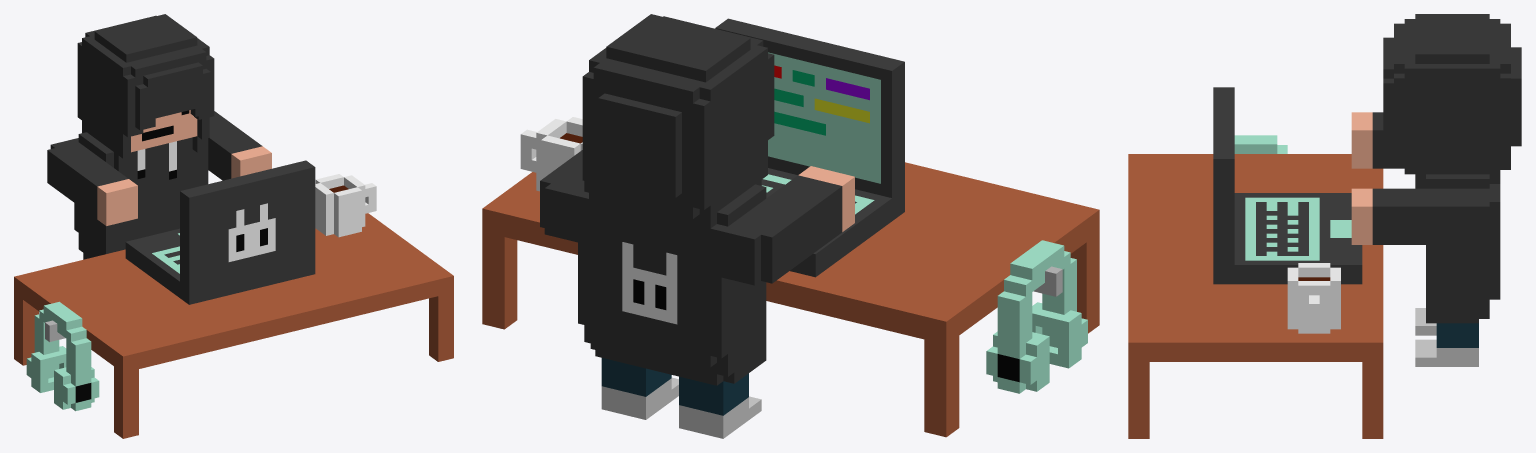
Rendered from myPlaceFinal.glb.
The picture shows the model from 3 angles, left to right: view 1: azimuth 30°, elevation 25°; view 2: azimuth 150°, elevation 25°; view 3: azimuth 270°, elevation 25°; orthographic projection. The views are drawn at different scales.
Size of the model in its own units: 4.5 by 3.2 by 3.7.
Materials: 5 (5 with a texture image).
